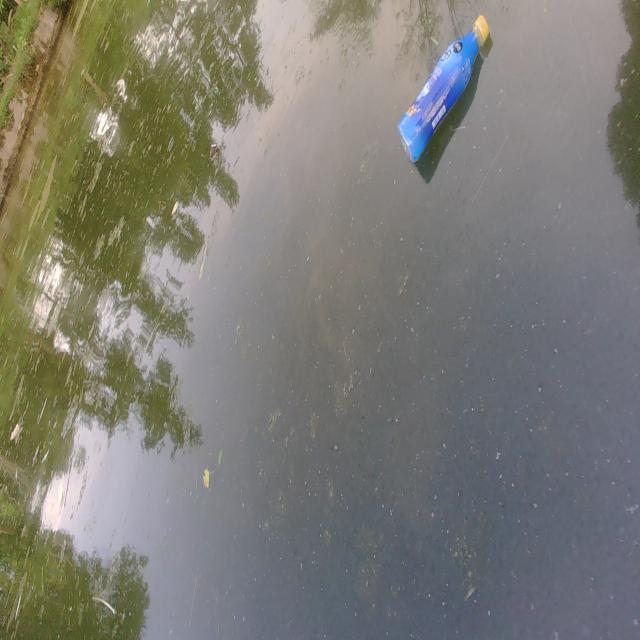Bottle: (394, 9, 491, 162)
